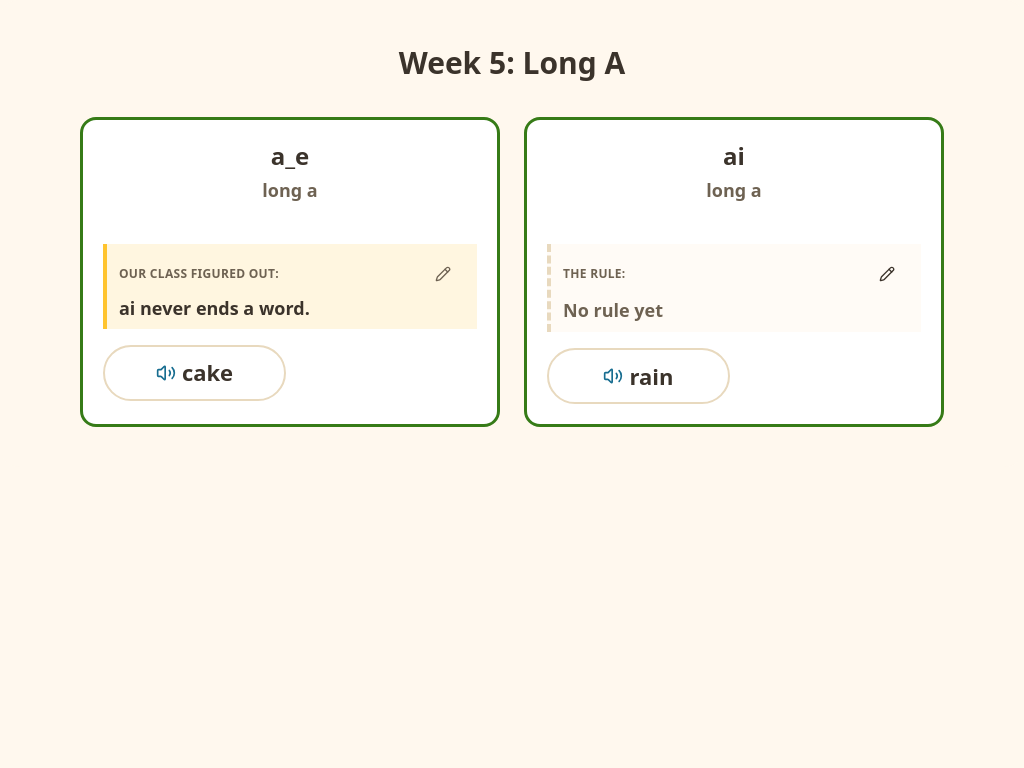
Test: PatternChartDisplay › rule display › opens the classroom rule in the modal when the rule is shared
Click the button named "Edit rule for a_e". click: (443, 274)
box: [421,252,465,296]
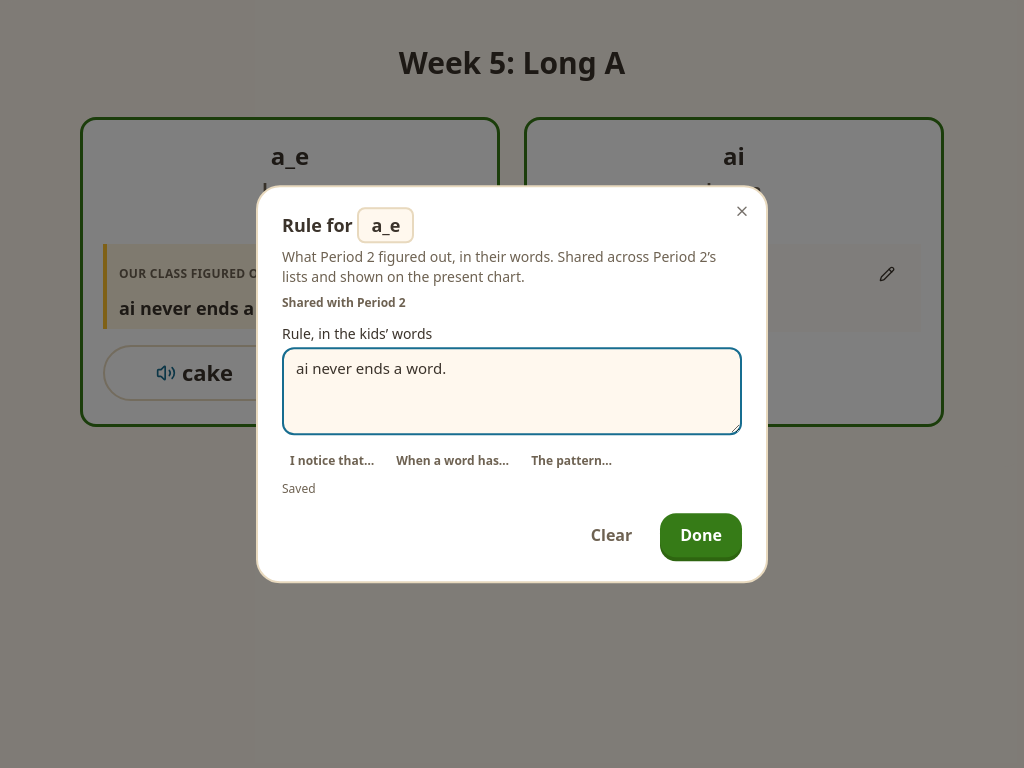
Expected: the dialog "Rule for a_e" is shown, [256,185,768,583]
Expected: the text box labelled "Rule, in the kids’ words" holds "ai never ends a word.", [282,347,742,435]
Expected: the text "Shared with Period 2" is shown, [282,294,406,311]
